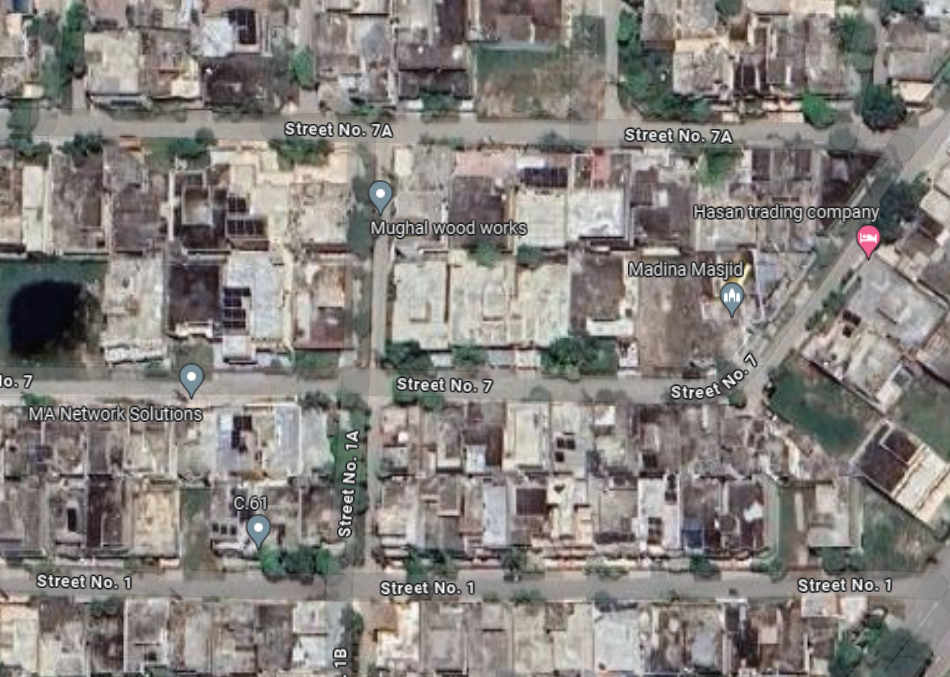solar-panel: (226, 286, 253, 332), (526, 166, 566, 187), (224, 219, 267, 233), (221, 199, 246, 213), (648, 517, 660, 545), (227, 433, 239, 450), (234, 415, 249, 428), (555, 440, 572, 449)
